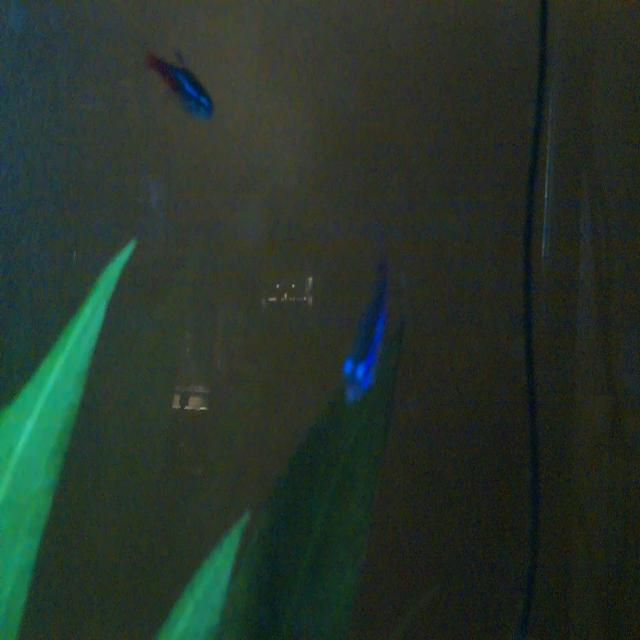fish: (305, 224, 402, 413), (130, 38, 224, 136)
